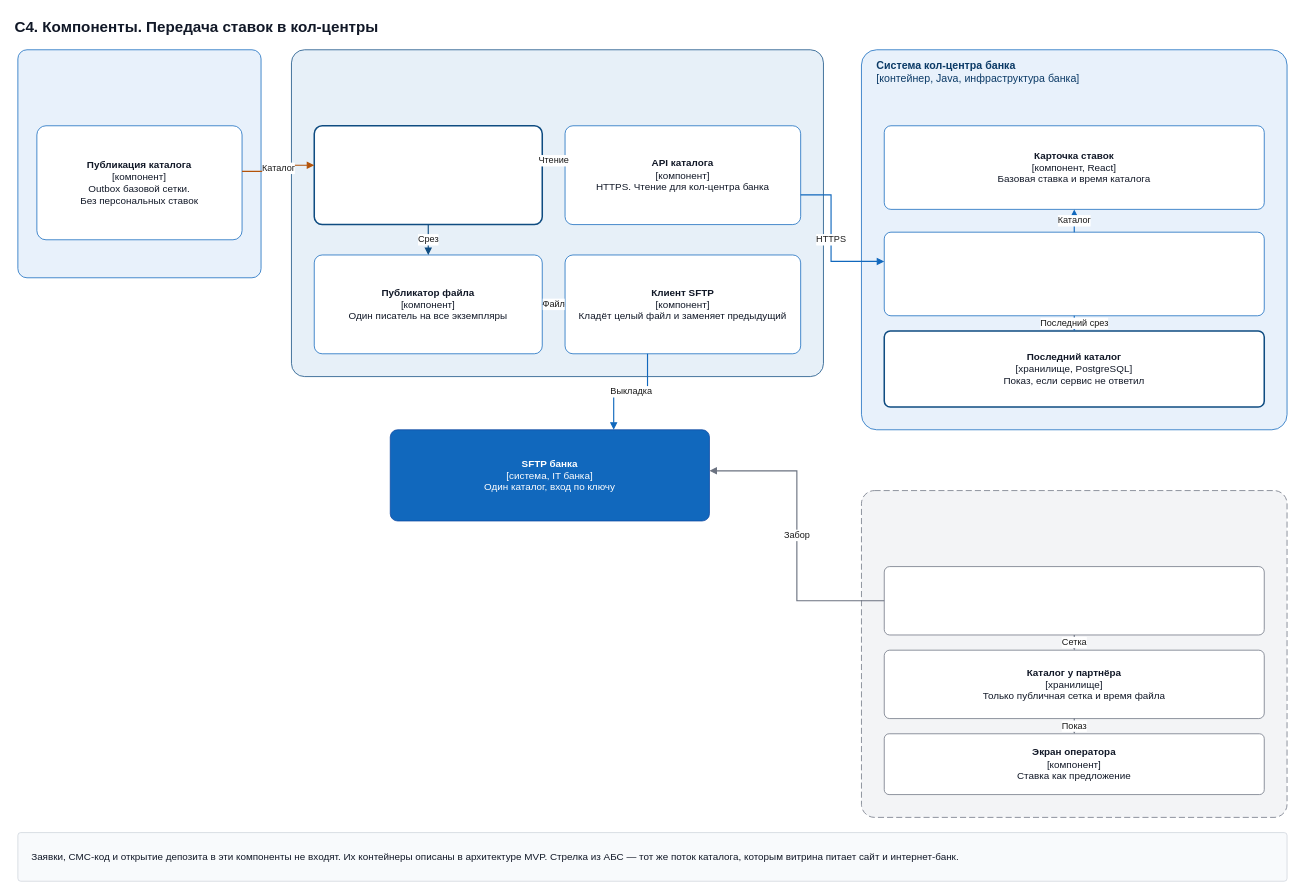
The diagram is 1300 pixels wide and 895 high, and some of its shapes have lost their labels. Here are the shapes that lost their labels. From the top down, the box of each, then its label:
(17, 49, 261, 278): АБС [контейнер]
(313, 125, 543, 225): Витрина ставок [хранилище, MS SQL] Публичный каталог и время среза
(291, 49, 823, 377): Сервис открытия депозитов [контейнер, ASP.NET Core]
(884, 231, 1264, 316): Сервис ставок [компонент, Java] Читает витрину, не ходит в АБС
(884, 566, 1264, 635): Забор файла [компонент] По расписанию. API банка нет
(861, 490, 1287, 817): Система партнёрского кол-центра [внешняя система]
